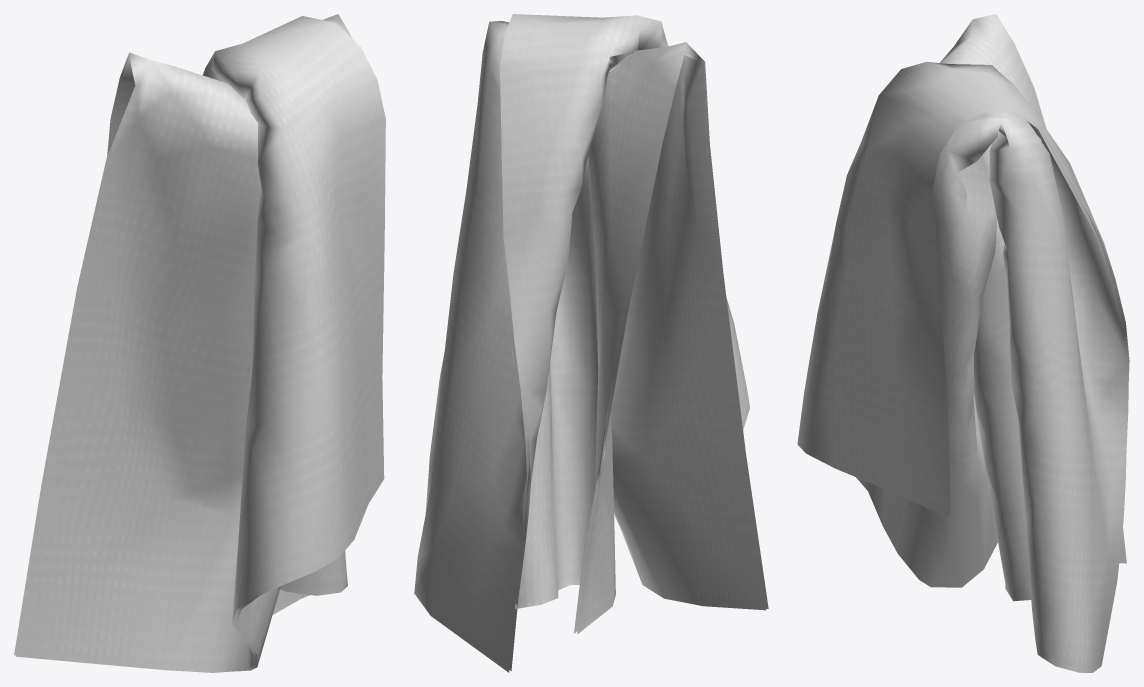
Rendered from BathroomTowel_B.fbx.
The picture shows the model from 3 angles, left to right: view 1: azimuth 30°, elevation 25°; view 2: azimuth 150°, elevation 25°; view 3: azimuth 270°, elevation 25°; orthographic projection. The views are drawn at different scales.
Visible parts, largest first — view 1: BathroomTowel_B; view 2: BathroomTowel_B; view 3: BathroomTowel_B.
Boxes of the visible parts, <box> form: BathroomTowel_B: <box>14,14,385,672</box>; BathroomTowel_B: <box>414,14,768,672</box>; BathroomTowel_B: <box>797,14,1129,672</box>.
Size of the model in its own units: 21.48 by 38.99 by 19.72.
